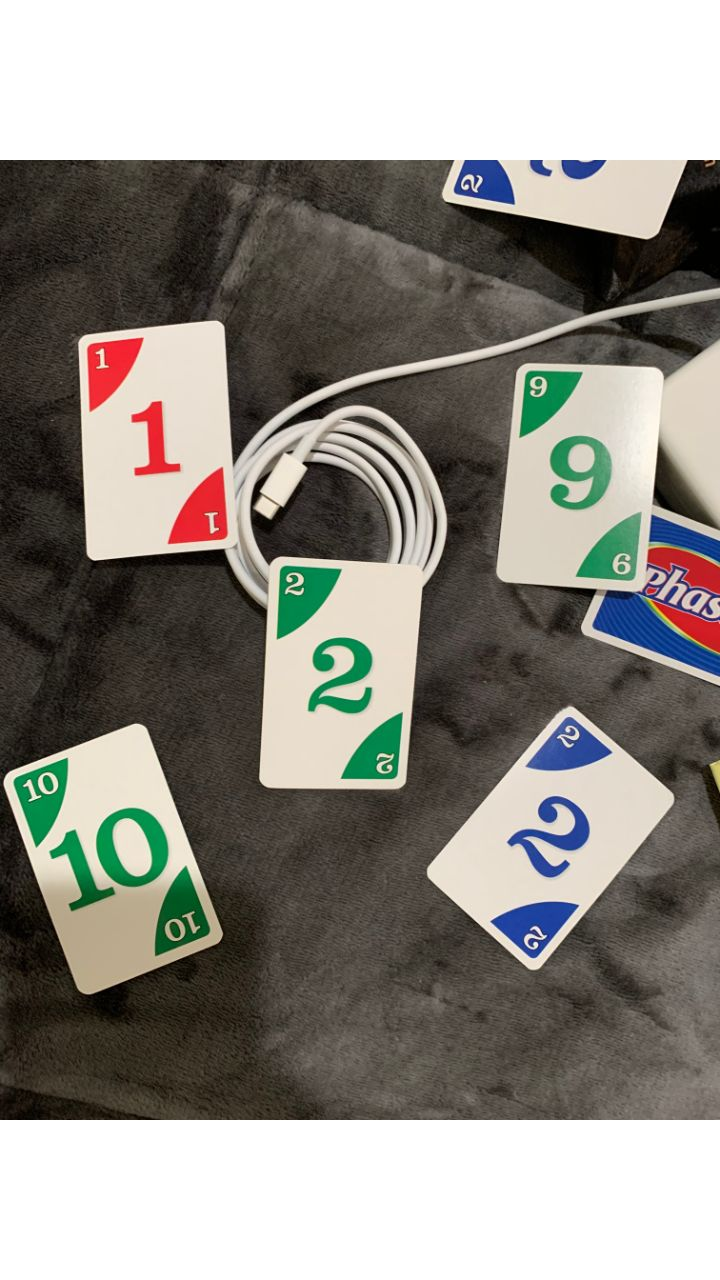nine: (495, 365, 663, 592)
one: (76, 320, 238, 560)
ten: (7, 723, 219, 994)
two: (426, 706, 676, 969), (258, 559, 424, 795)
